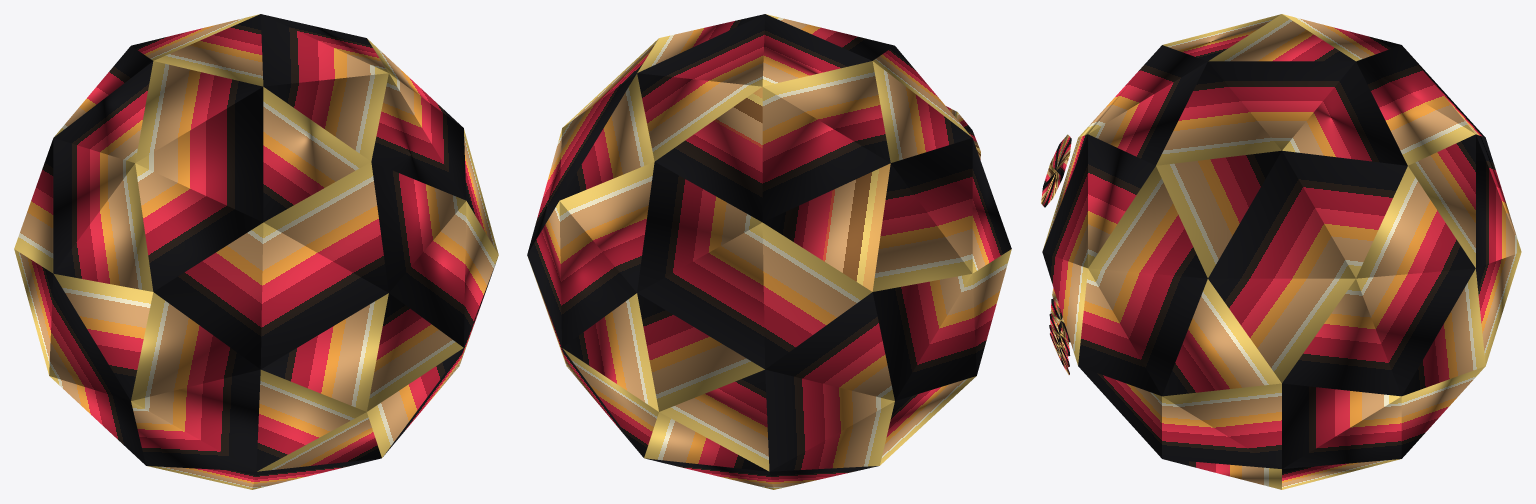
File: wink.glb
3 renders of one model, left to right at view 1: azimuth 30°, elevation 25°; view 2: azimuth 150°, elevation 25°; view 3: azimuth 270°, elevation 25°, orthographic.
Parts seen in each view (by area): view 1: wink; view 2: wink; view 3: wink.
Part boxes in pixels (box(x1,y1,x2,y2)): wink: box(14, 14, 498, 489); wink: box(527, 14, 1011, 489); wink: box(1041, 14, 1521, 489).
Size of the model in its own units: 1 by 1 by 1.
Materials: 1 (1 with a texture image).
